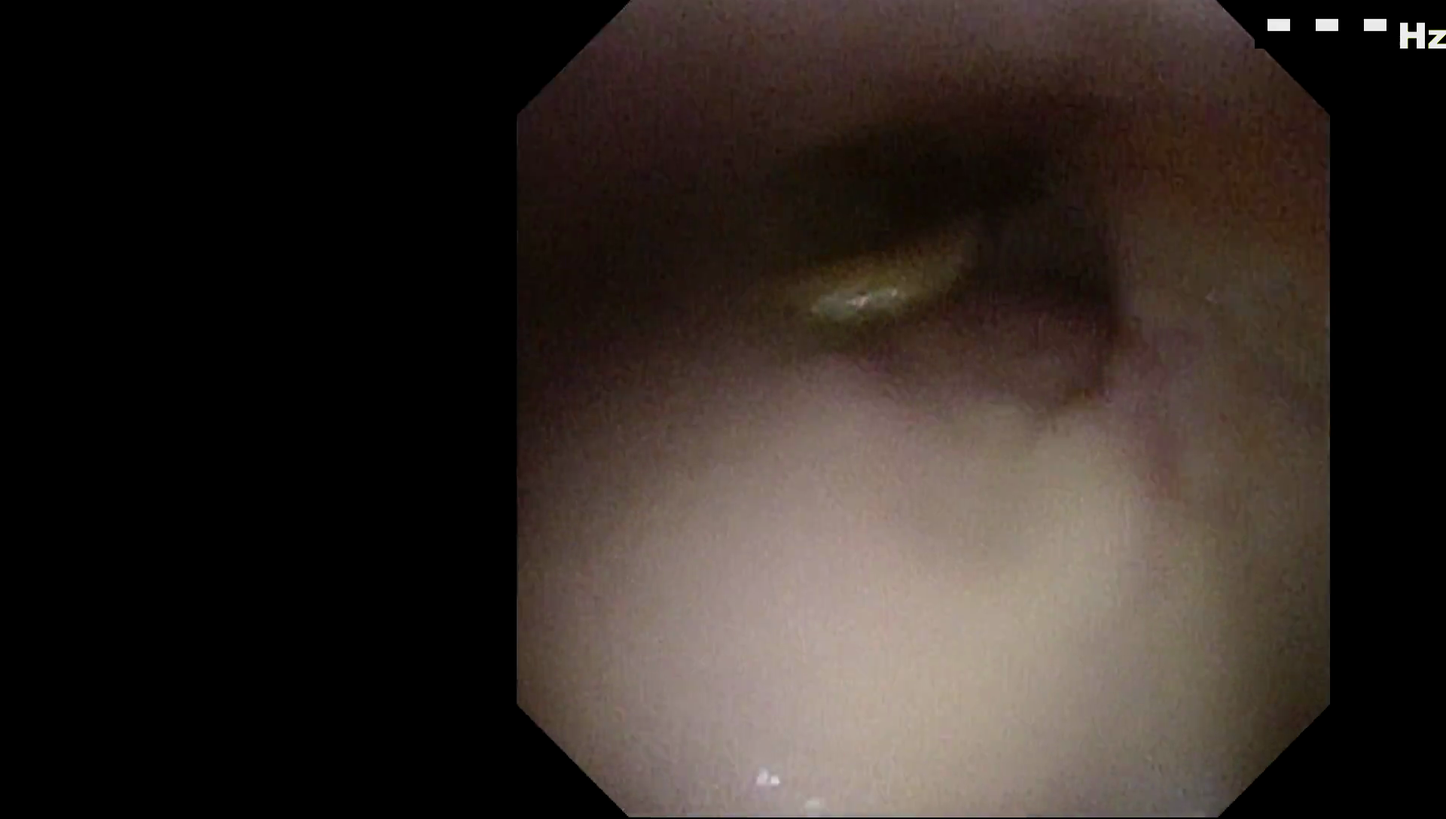next: (809, 114, 1138, 266), (962, 208, 1156, 336)
